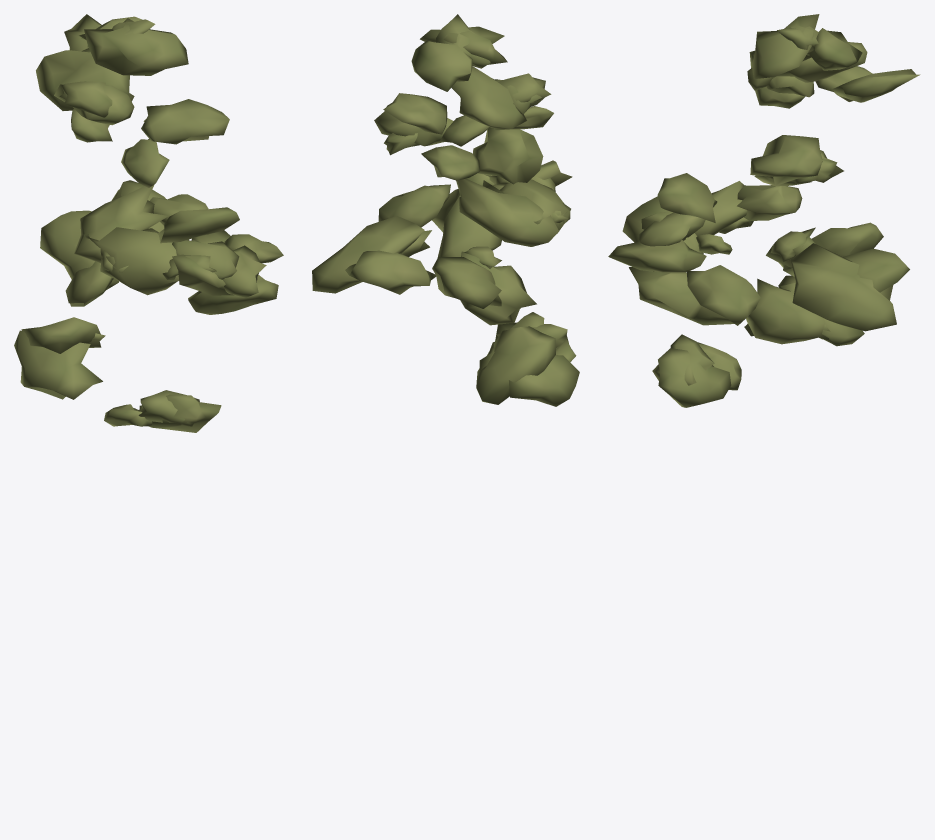
Rendered from baum-buche-2-nah.glb.
3 views of the same model, side by side, from view 1: azimuth 30°, elevation 25°; view 2: azimuth 150°, elevation 25°; view 3: azimuth 270°, elevation 25° (orthographic).
Visible parts, largest first — view 1: Baum_Stamm.001; view 2: Baum_Stamm.001; view 3: Baum_Stamm.001.
Part boxes in pixels (box(x1,y1,x2,y2)): Baum_Stamm.001: box(14, 14, 283, 432); Baum_Stamm.001: box(312, 14, 579, 406); Baum_Stamm.001: box(608, 14, 920, 407).
Size of the model in its own units: 9.23 by 31.41 by 11.13.
